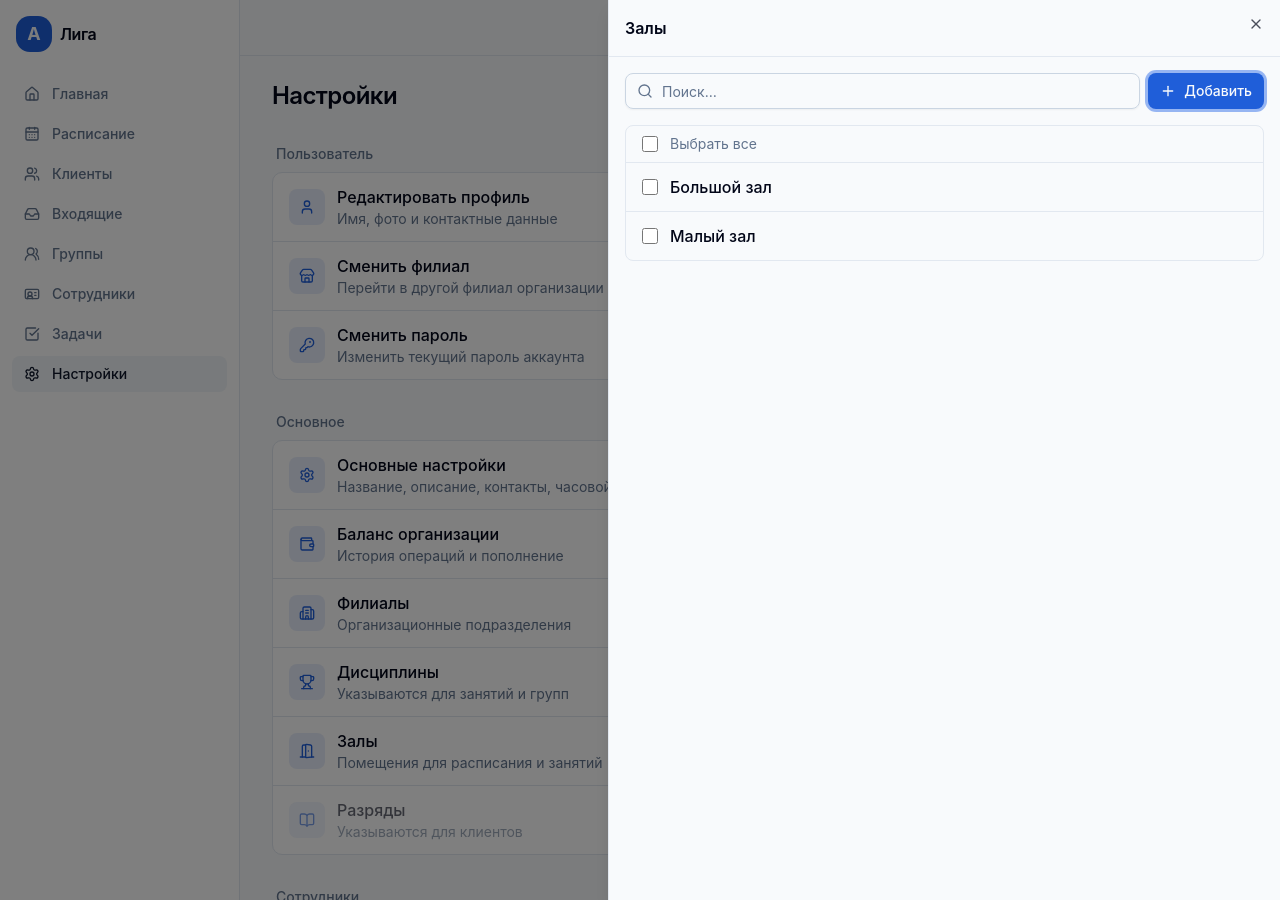
Test: справочник › переименовывает запись
Click the button with aria-label "Изменить «Малый зал»". click: (713,236)
box: [670, 212, 1247, 260]
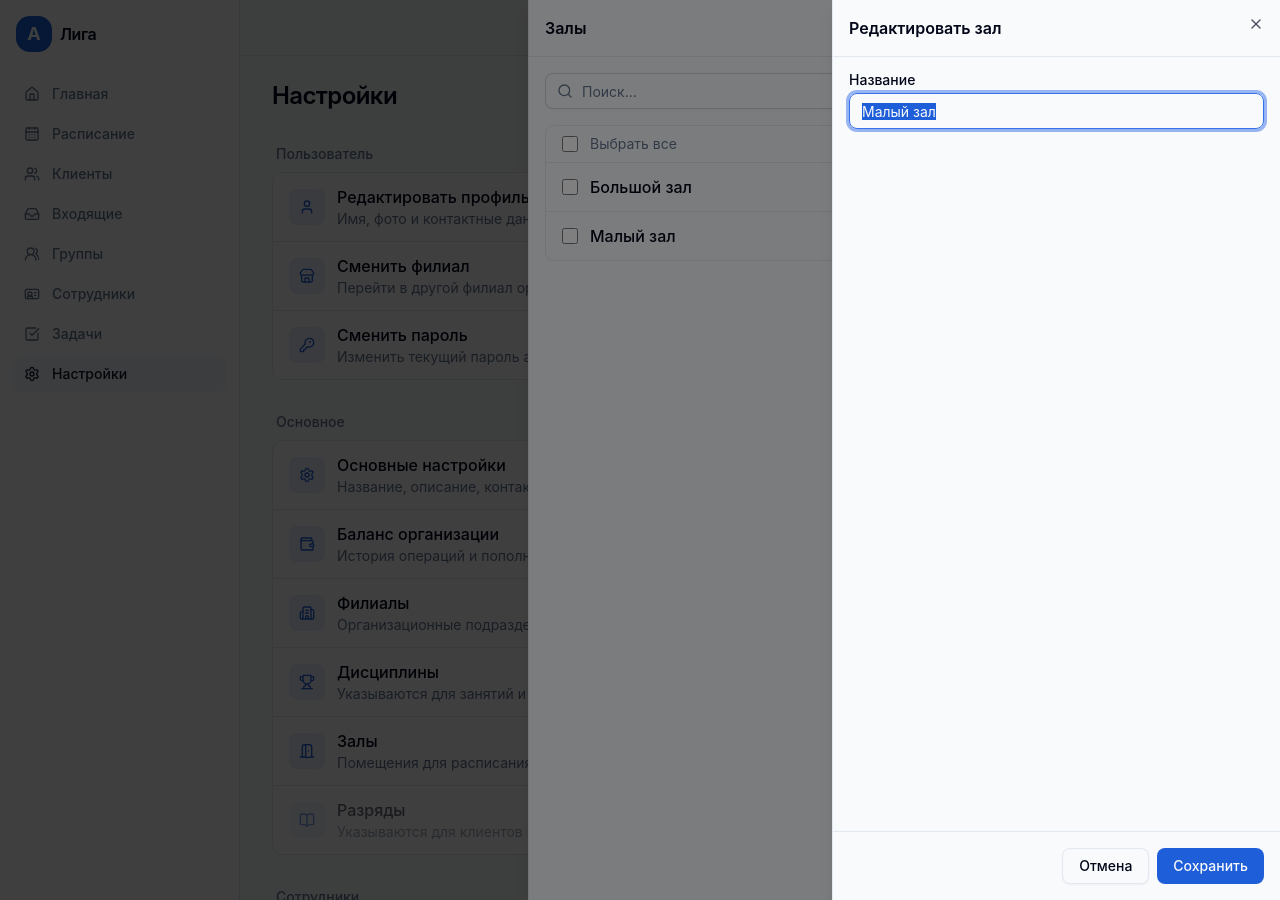
Now the field labelled "Название" holds "Малый зал"
Replace the text in the field labelled "Название" with "Зал №2". click: (1056,111)
box: [849, 93, 1264, 129]
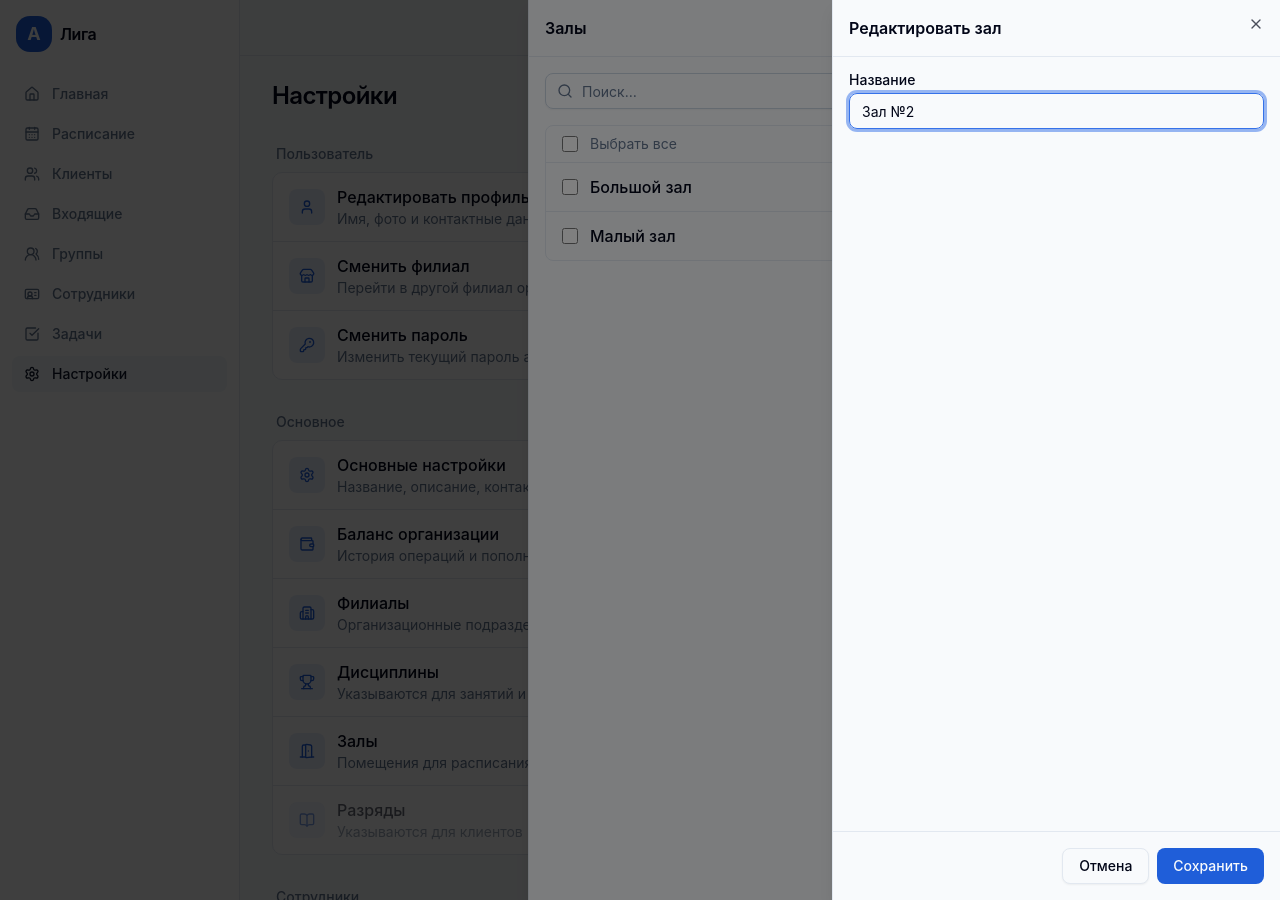
Click the button "Сохранить". click: (1211,866)
box: [1157, 848, 1264, 884]
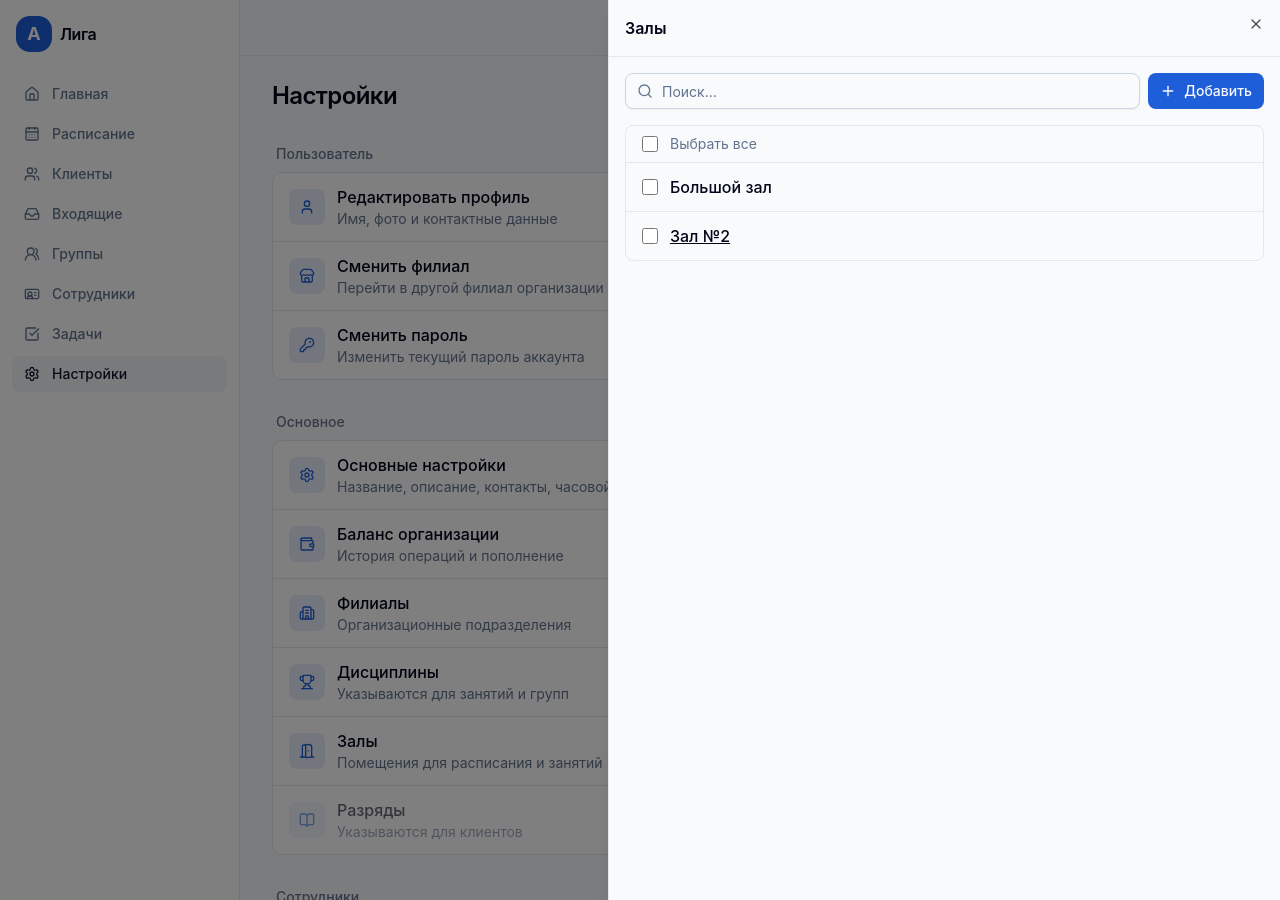
Now the button with aria-label "Изменить «Зал №2»" is shown, box [670, 212, 1247, 260]
